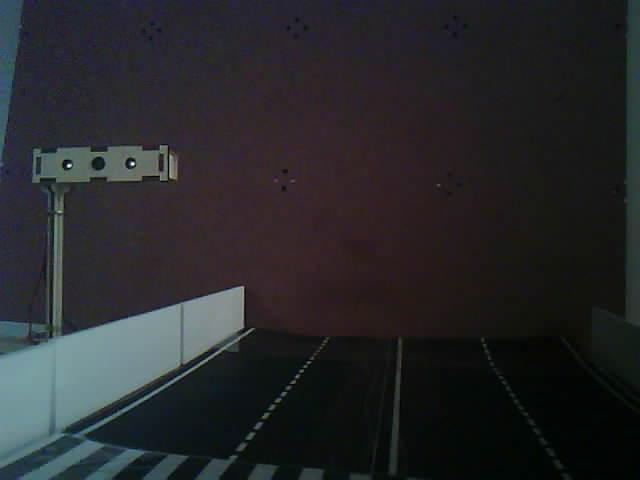crosswalk: (0, 392, 530, 480)
no: (16, 126, 200, 215)
